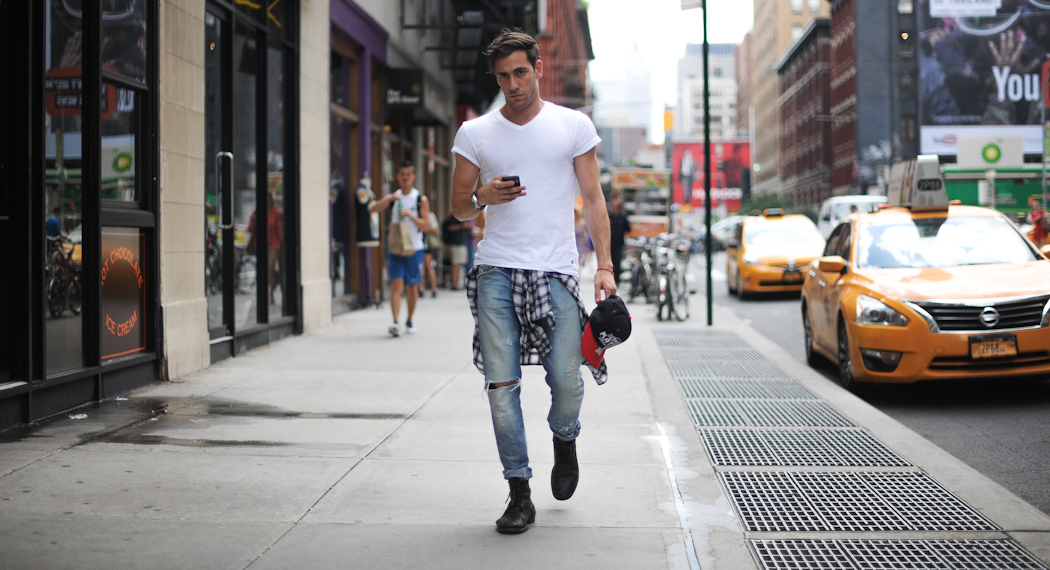person: (446, 17, 638, 540), (786, 194, 1050, 399), (356, 160, 450, 343), (715, 208, 838, 300)
